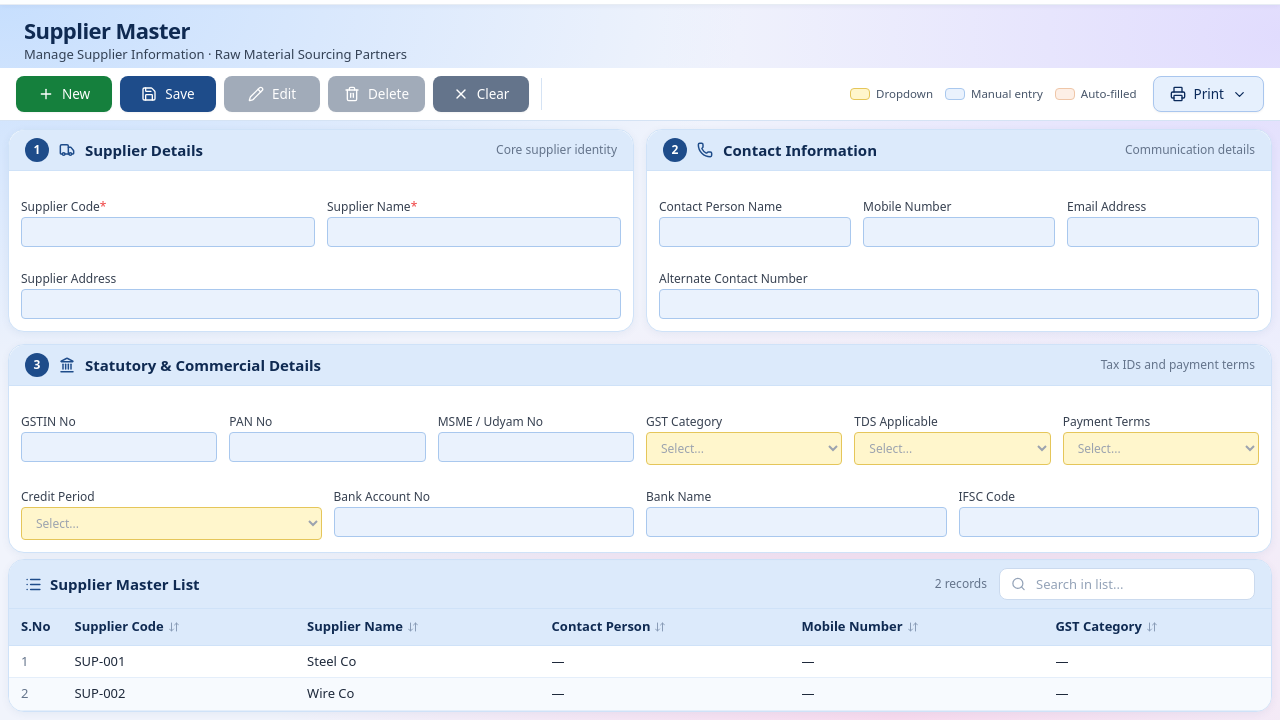
Supplier Master credit period › shows the saved value on edit, even one outside the built-ins
(page scrolled)
Click the text "SUP-001": (100, 660) [62,645,295,678]
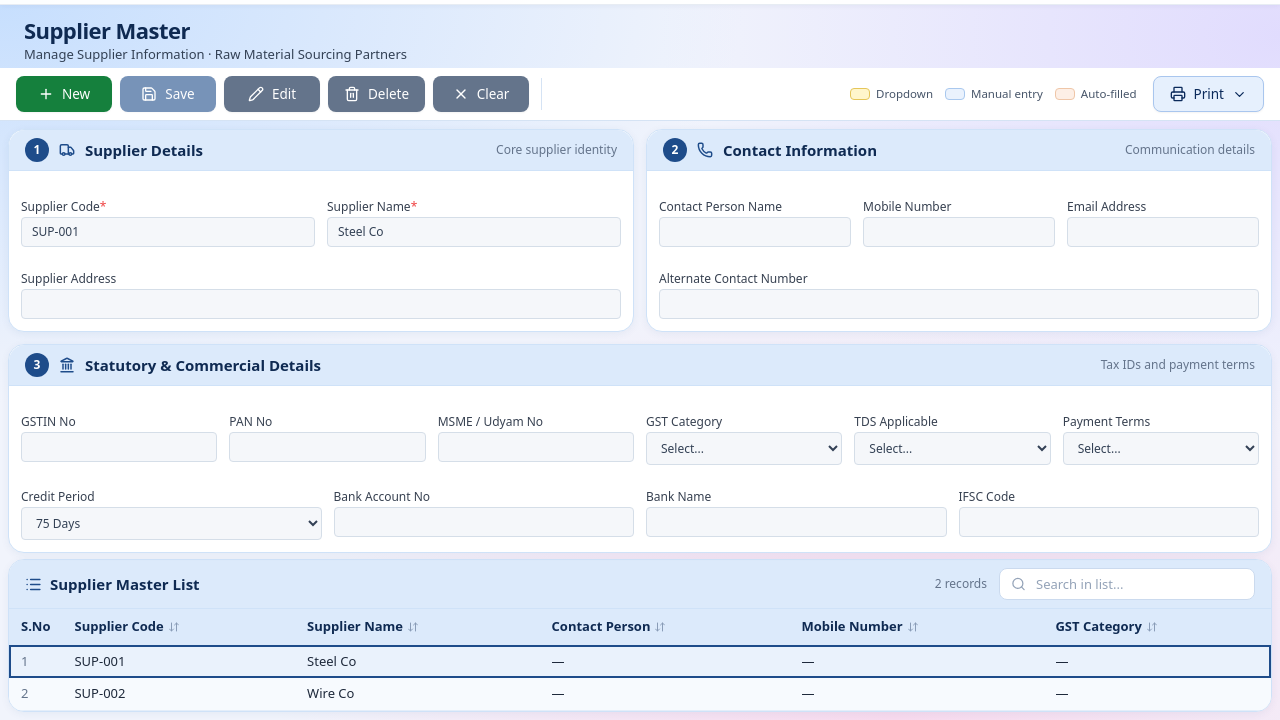
Check: the dropdown labelled "Credit Period" shows "75 Days", box [21,507,322,540]
